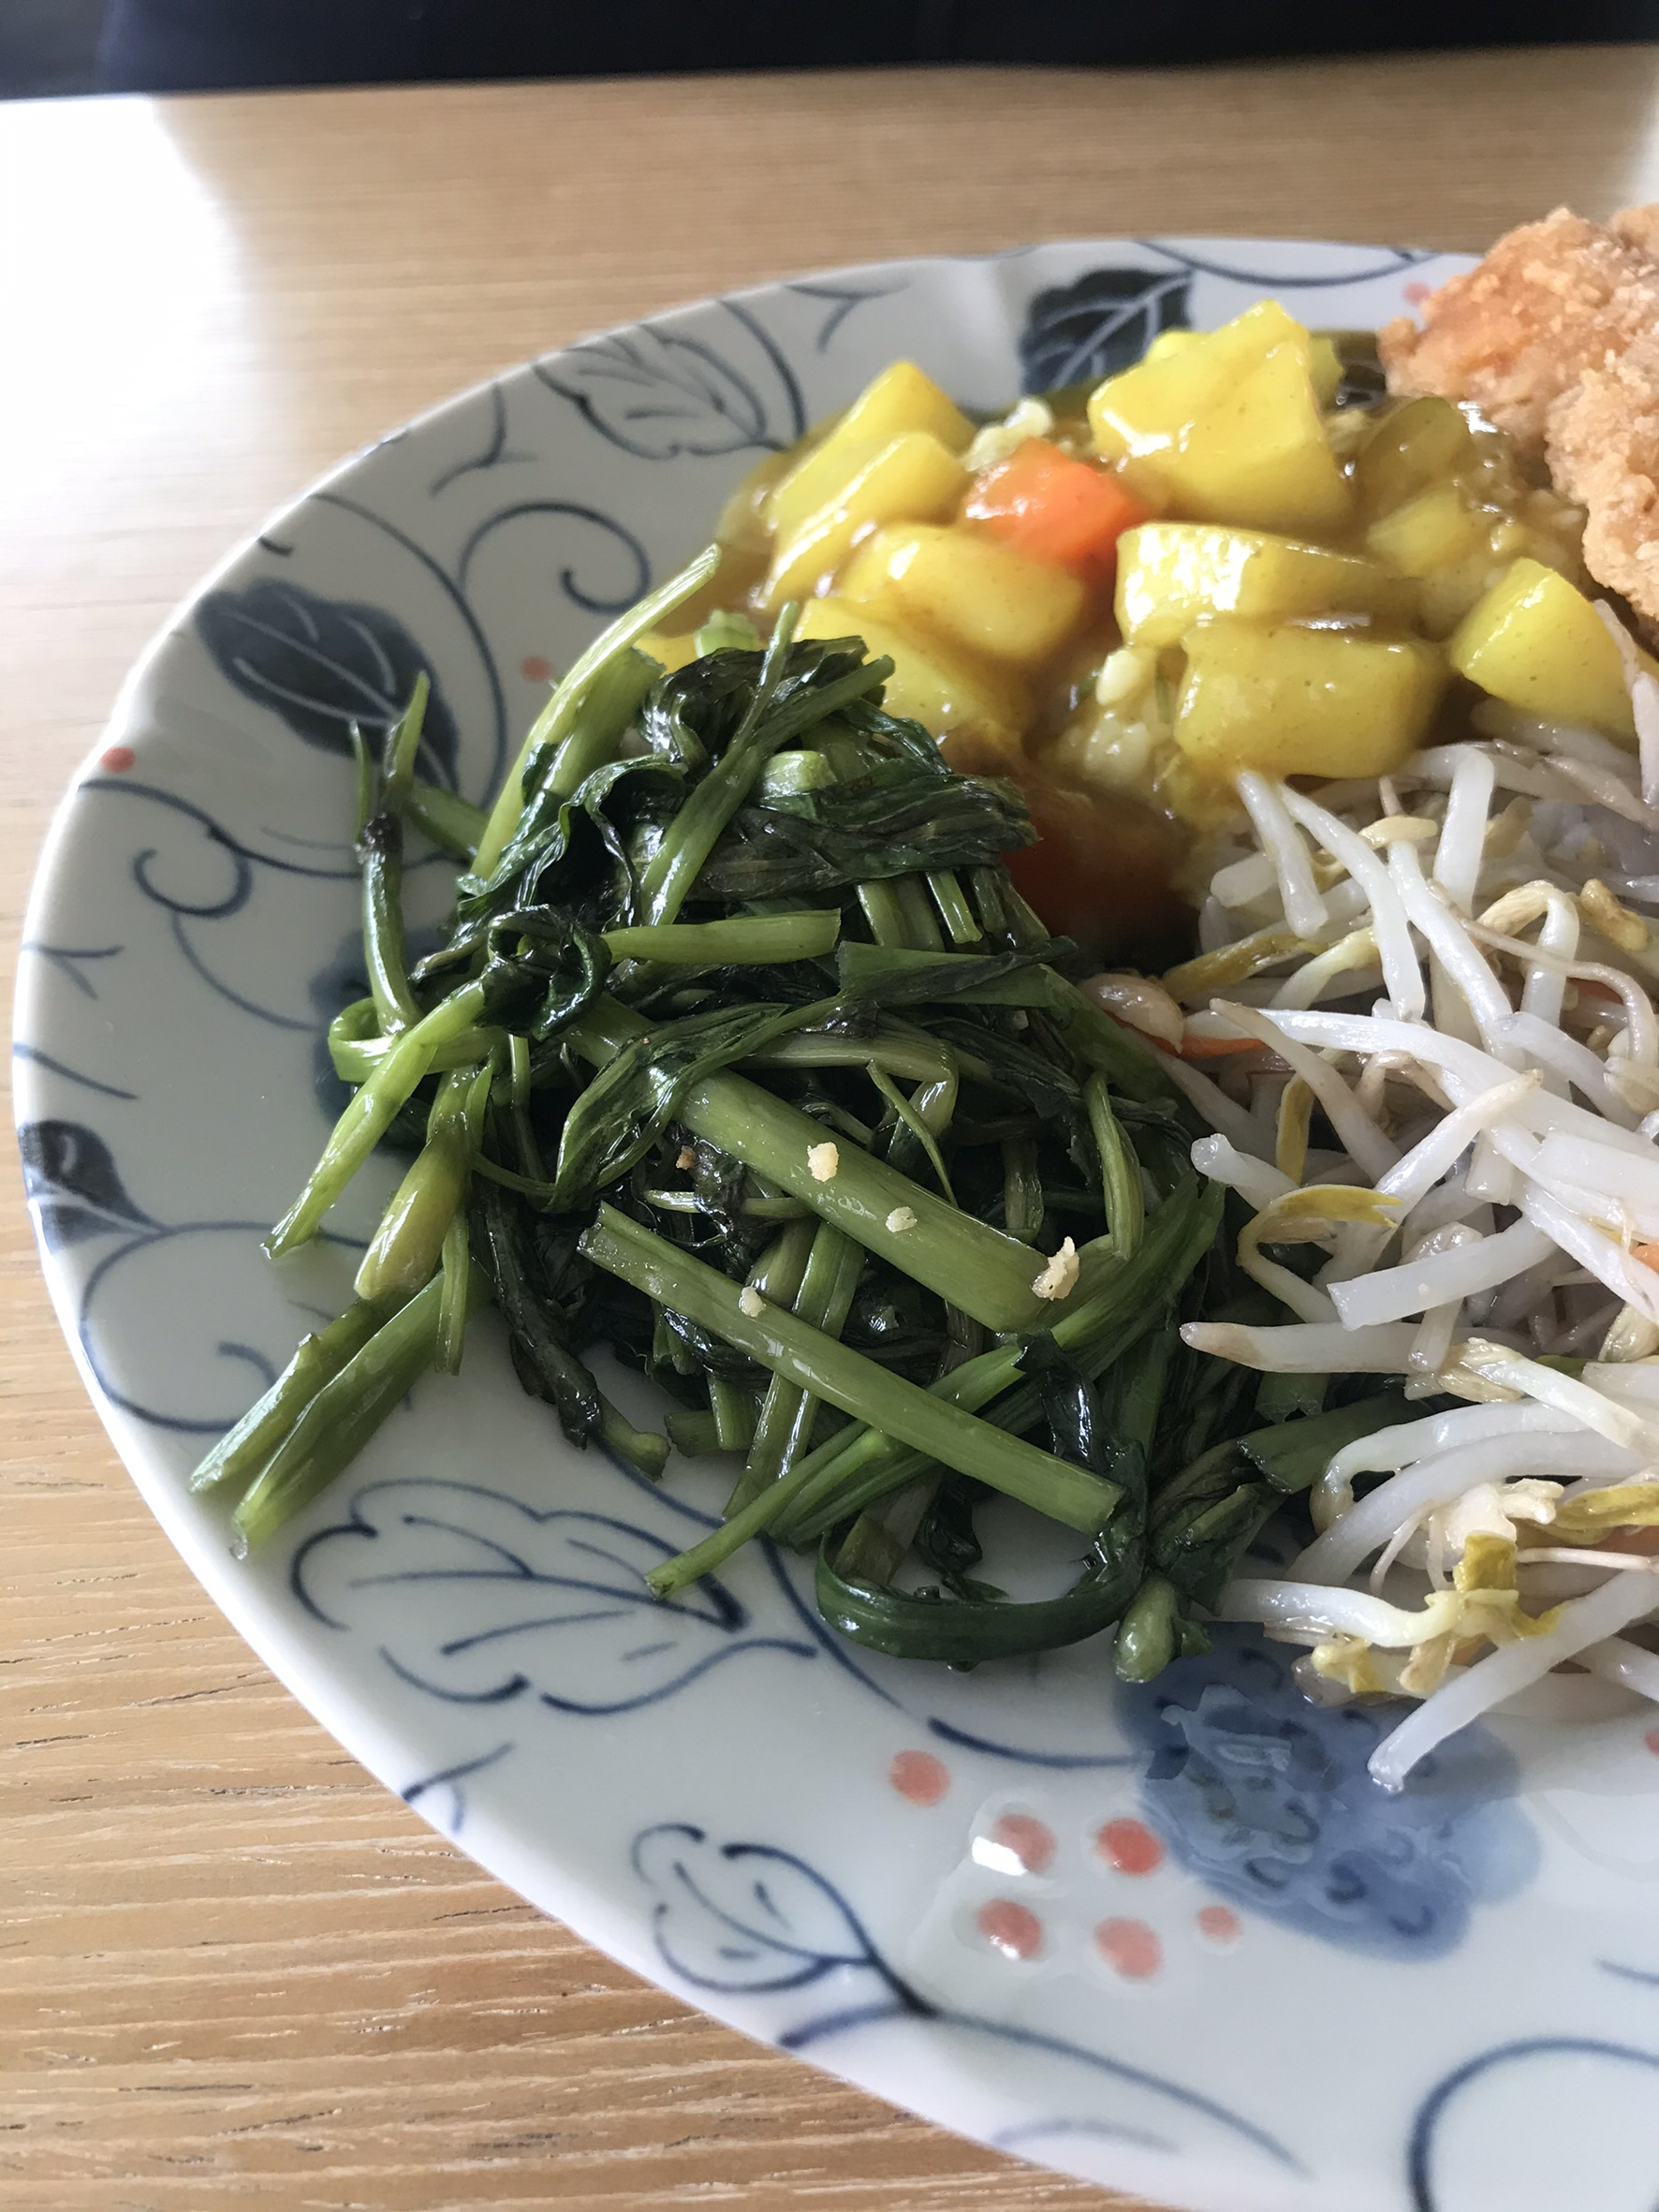curry: (772, 411, 1518, 746)
mung_bean_sprouts: (1312, 884, 1659, 1654)
water_spinach: (450, 769, 1155, 1527)
